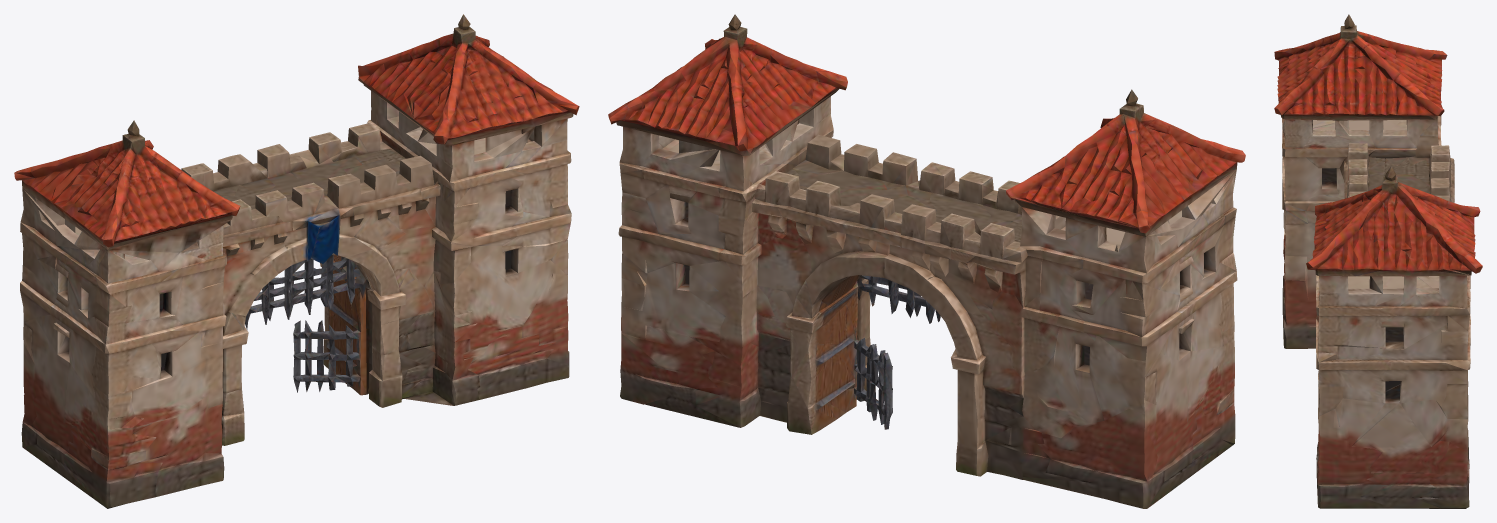
Rendered from gatehouse.glb.
3 views of the same model, side by side, from view 1: azimuth 30°, elevation 25°; view 2: azimuth 150°, elevation 25°; view 3: azimuth 270°, elevation 25° (orthographic). The views are drawn at different scales.
Bounding box in the file's own units: 1.9 × 1.29 × 0.7726.
Materials: 1 (1 with a texture image).
